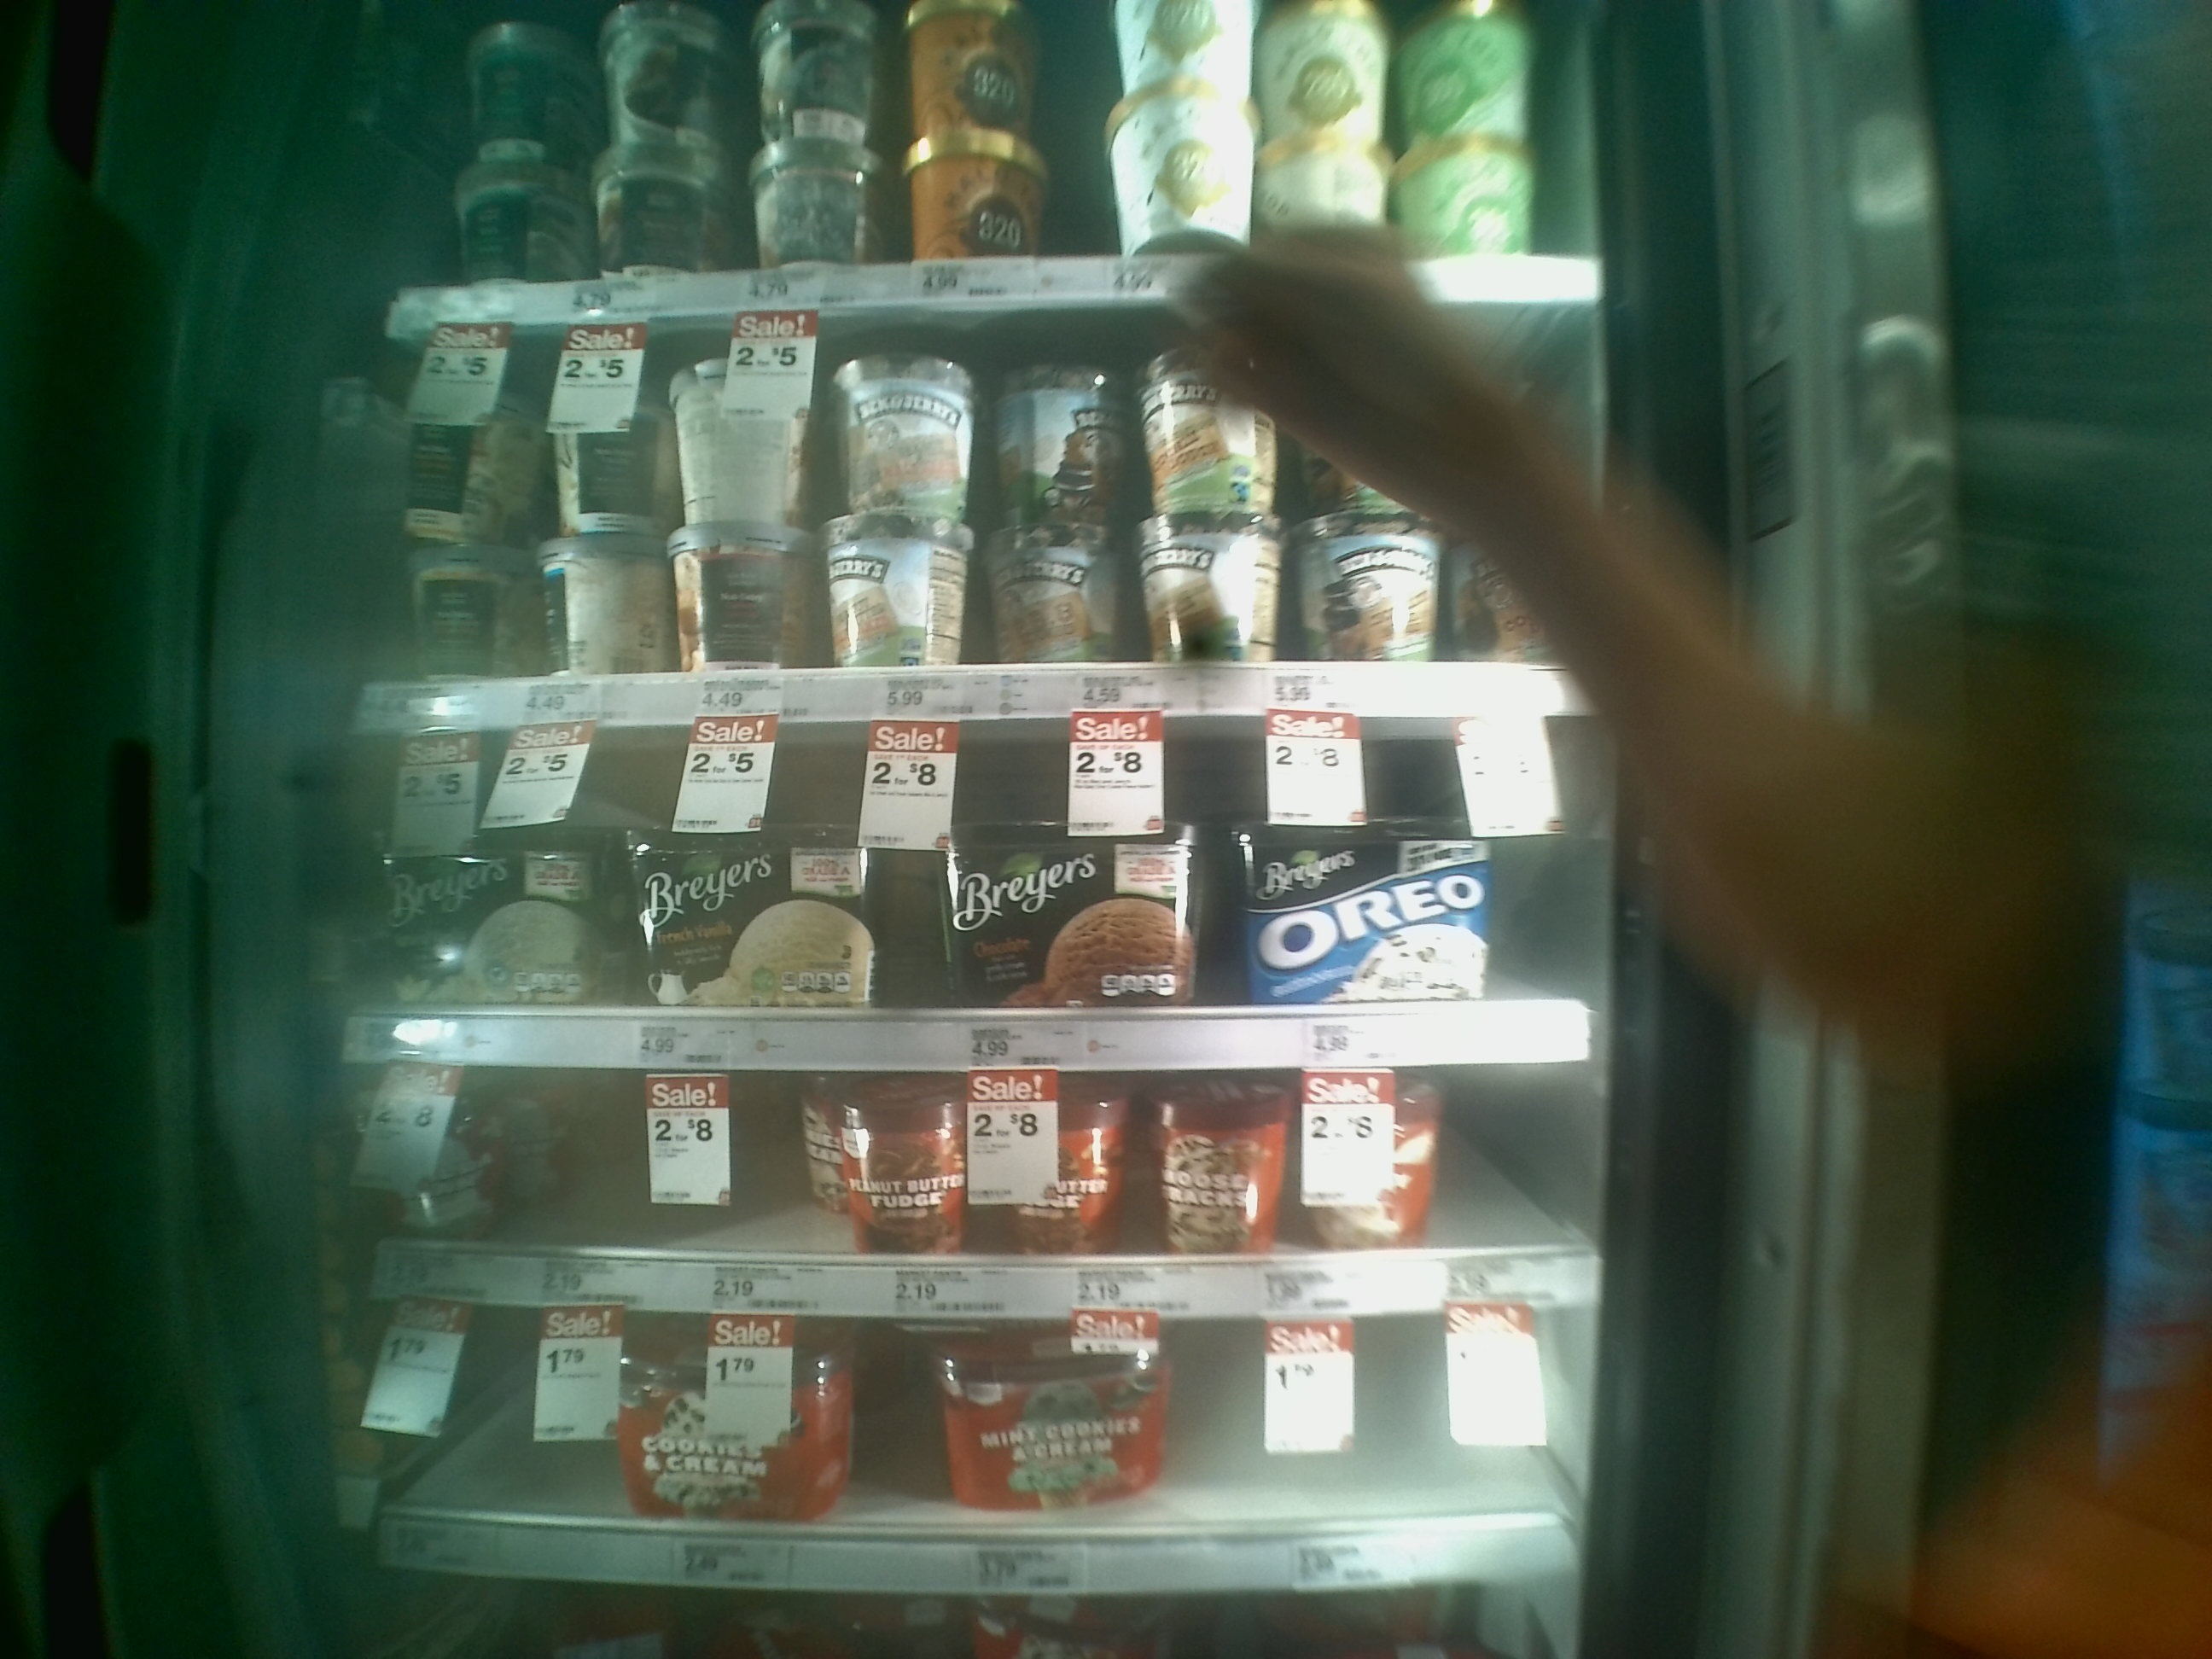ice-cream-shelf: (350, 723, 1615, 1063), (347, 1303, 1599, 1589), (348, 1058, 1601, 1305)
